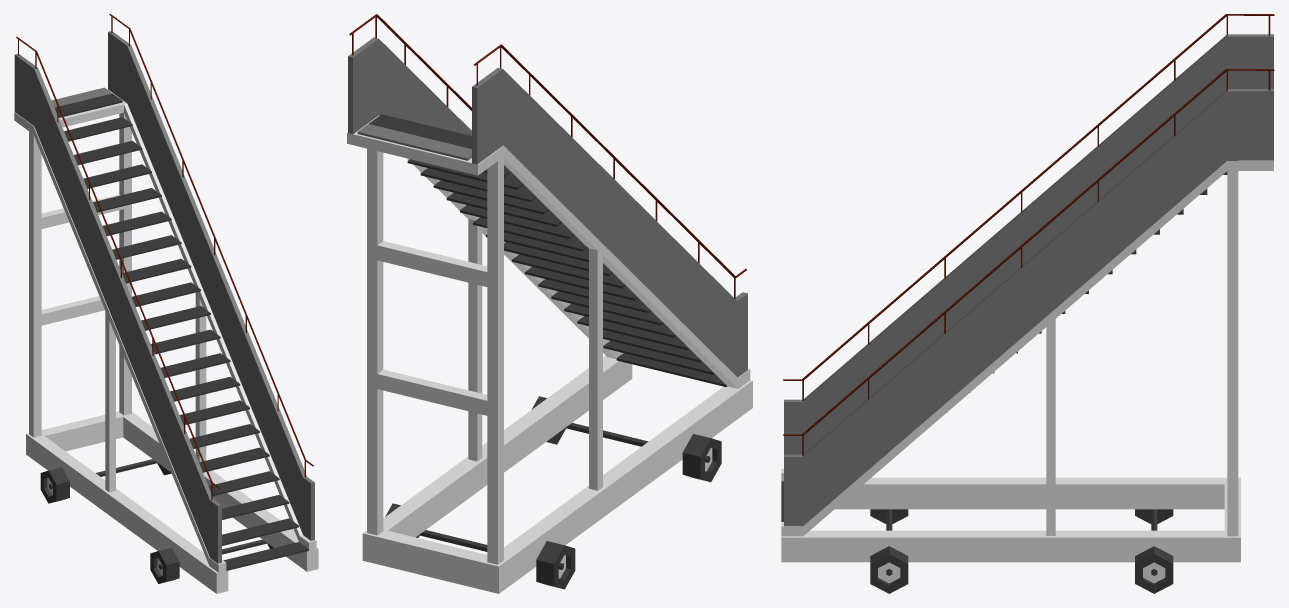
The model's file is Stair.fbx.
The picture shows the model from 3 angles, left to right: view 1: azimuth 30°, elevation 25°; view 2: azimuth 150°, elevation 25°; view 3: azimuth 270°, elevation 25°; orthographic projection. The views are drawn at different scales.
Parts seen in each view (by area): view 1: Stair; view 2: Stair; view 3: Stair.
Part boxes in pixels (box(x1,y1,x2,y2)): Stair: box(14, 14, 318, 593); Stair: box(347, 14, 752, 593); Stair: box(781, 14, 1274, 593).
Bounding box in the file's own units: 113 × 357 × 311.
